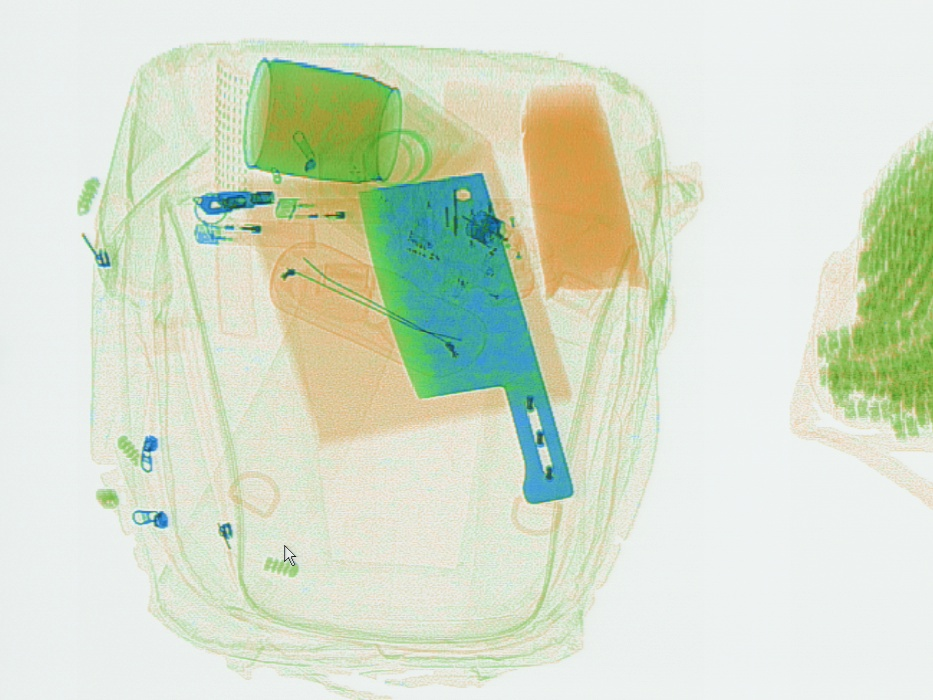firecrackers: (809, 110, 931, 442)
knife: (358, 168, 572, 505)
lighter: (268, 190, 397, 221), (190, 218, 317, 248)
